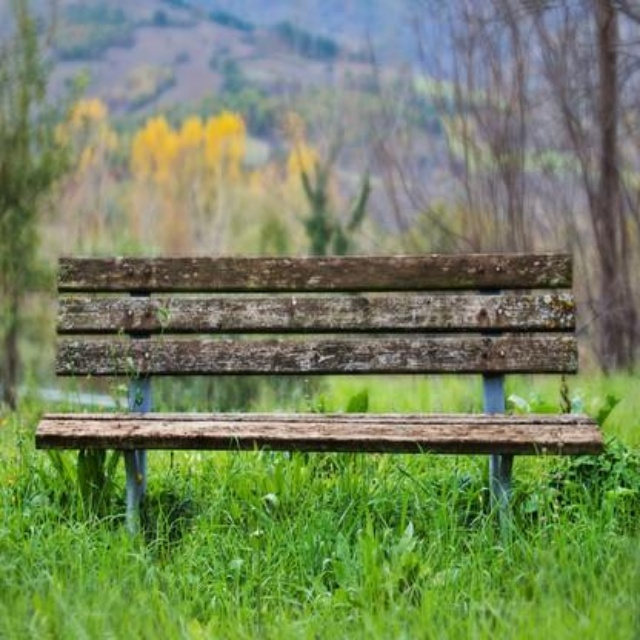obstacle: (25, 235, 617, 574)
